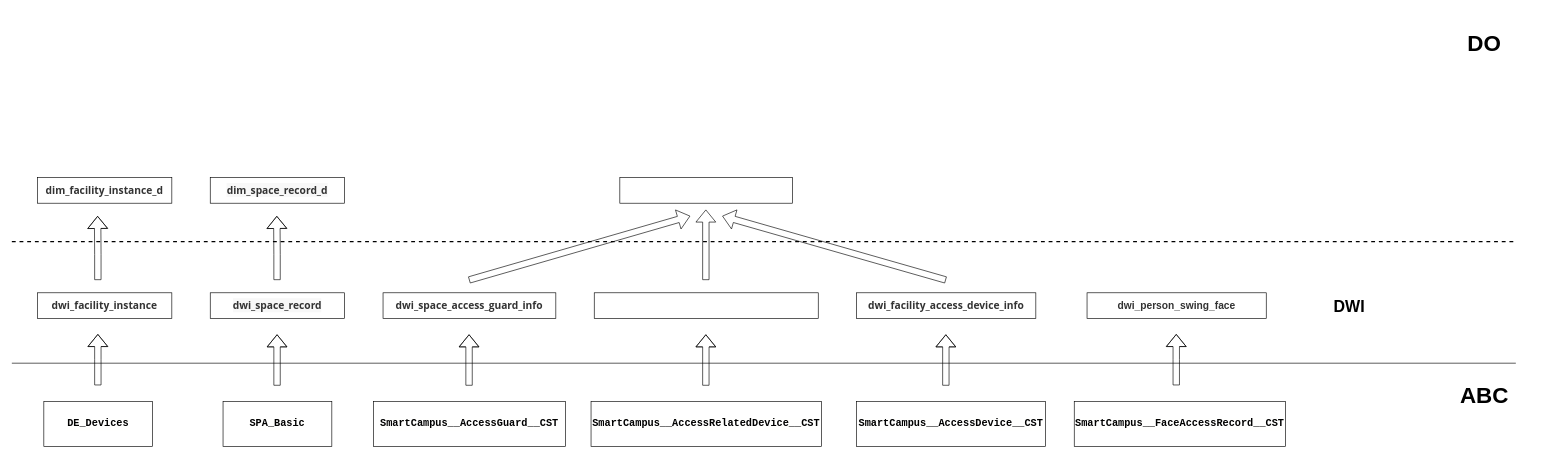
This 1559x458 diagram has some shape labels left out. Each missing label, with the centre of its shape:
"dim_space_guard_device_d" belongs at (706,190).
"dwi_facility_access_device_video_info" belongs at (706,305).
